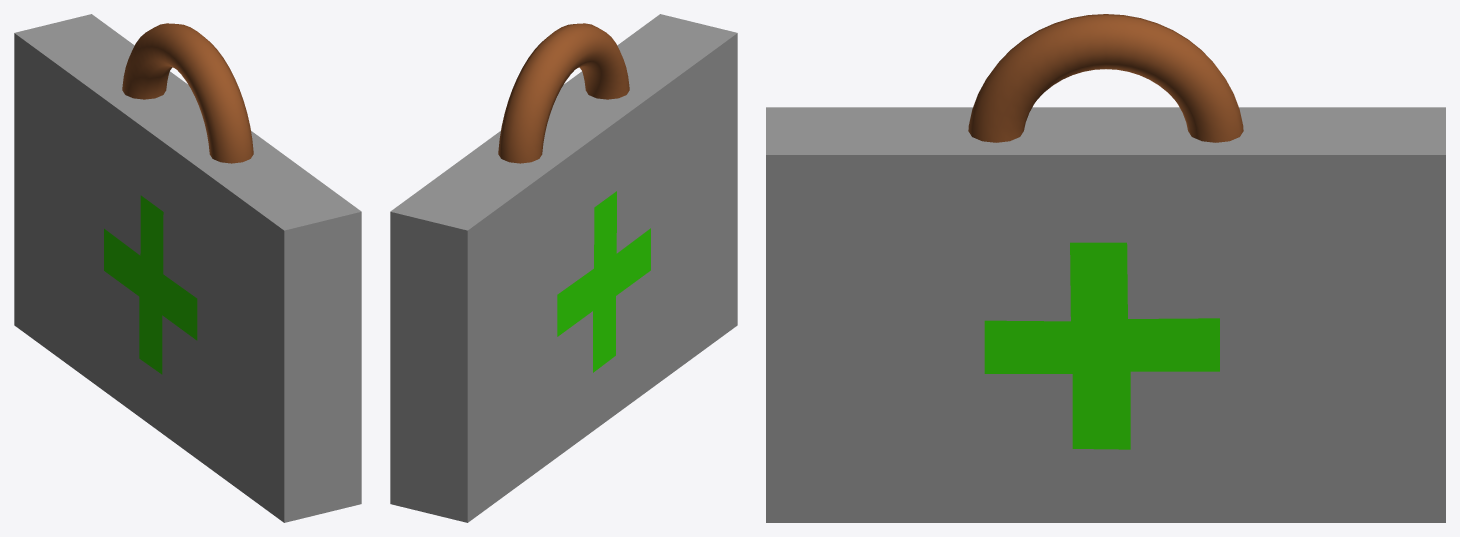
Rendered from medkit.fbx.
3 views of the same model, side by side, from view 1: azimuth 30°, elevation 25°; view 2: azimuth 150°, elevation 25°; view 3: azimuth 270°, elevation 25° (orthographic). The views are drawn at different scales.
Parts seen in each view (by area): view 1: Cube, Torus; view 2: Cube, Torus; view 3: Cube, Torus.
Part boxes in pixels (left/top/right/bottom): Cube: left=14, top=14, right=361, bottom=522; Torus: left=122, top=23, right=253, bottom=163; Cube: left=390, top=14, right=737, bottom=522; Torus: left=498, top=23, right=629, bottom=163; Cube: left=766, top=107, right=1445, bottom=522; Torus: left=968, top=14, right=1243, bottom=142.
Size of the model in its own units: 102 by 481 by 614.
